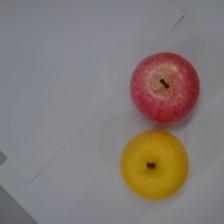red: (131, 53, 200, 123)
yellow: (121, 130, 189, 199)
